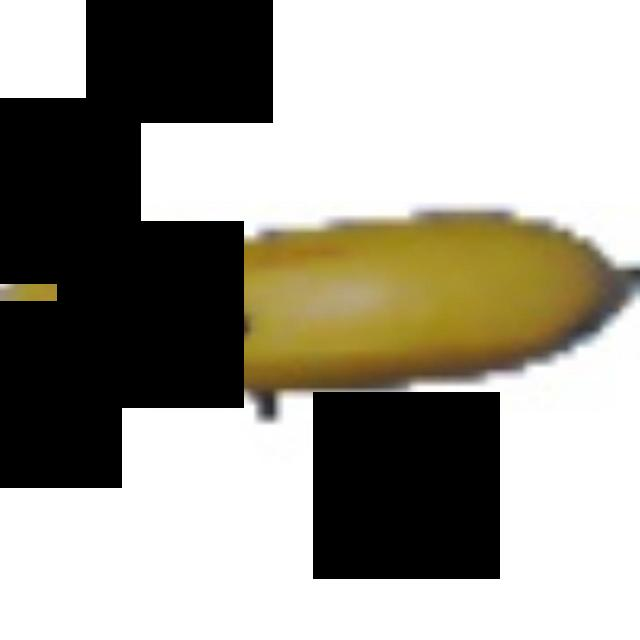banana: (0, 179, 634, 397)
